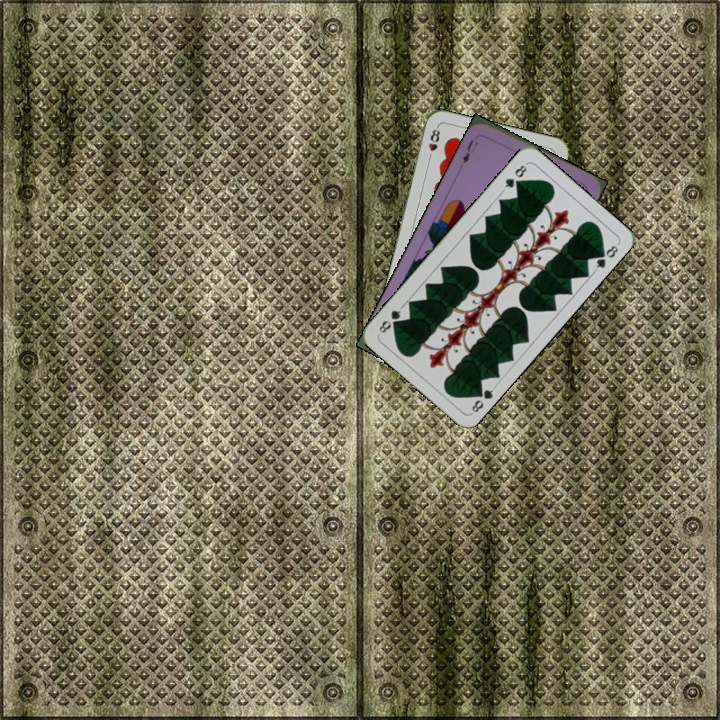EU: (458, 136, 481, 166)
G8: (467, 382, 498, 416), (499, 160, 530, 193)
H8: (424, 123, 442, 163)
